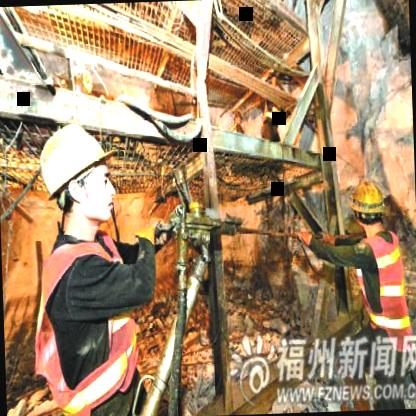helmet: (32, 114, 122, 233), (350, 176, 385, 233)
